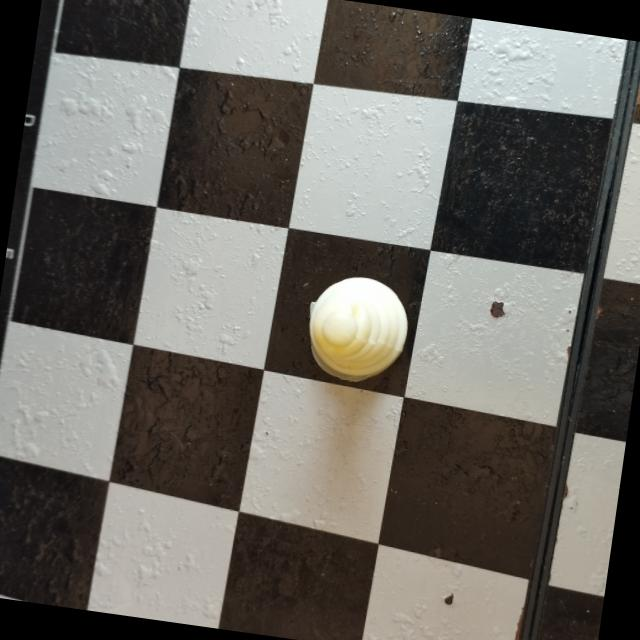White Bishop: (288, 260, 419, 398)
